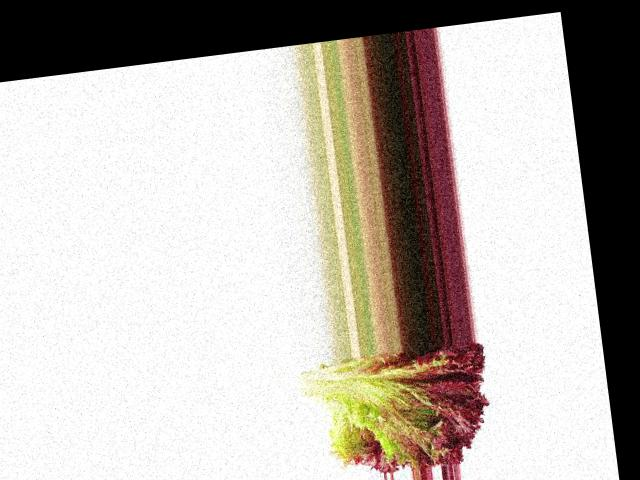lettuce: (300, 340, 472, 480)
